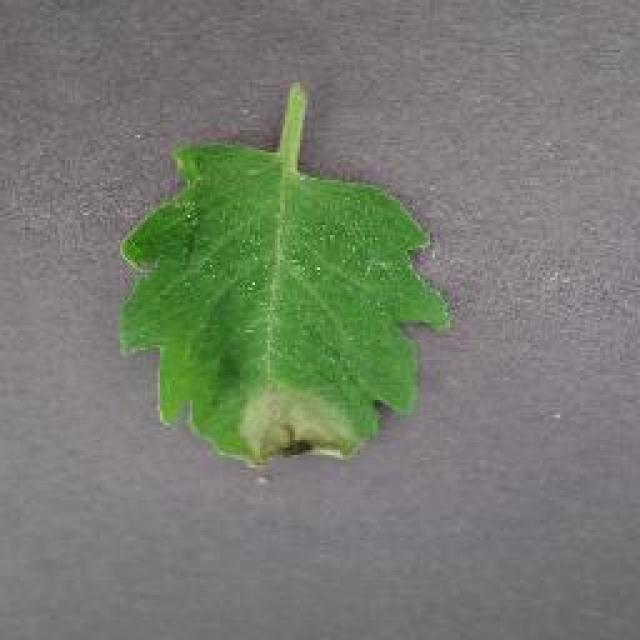Tomato___Late_blight: (117, 82, 452, 470)
